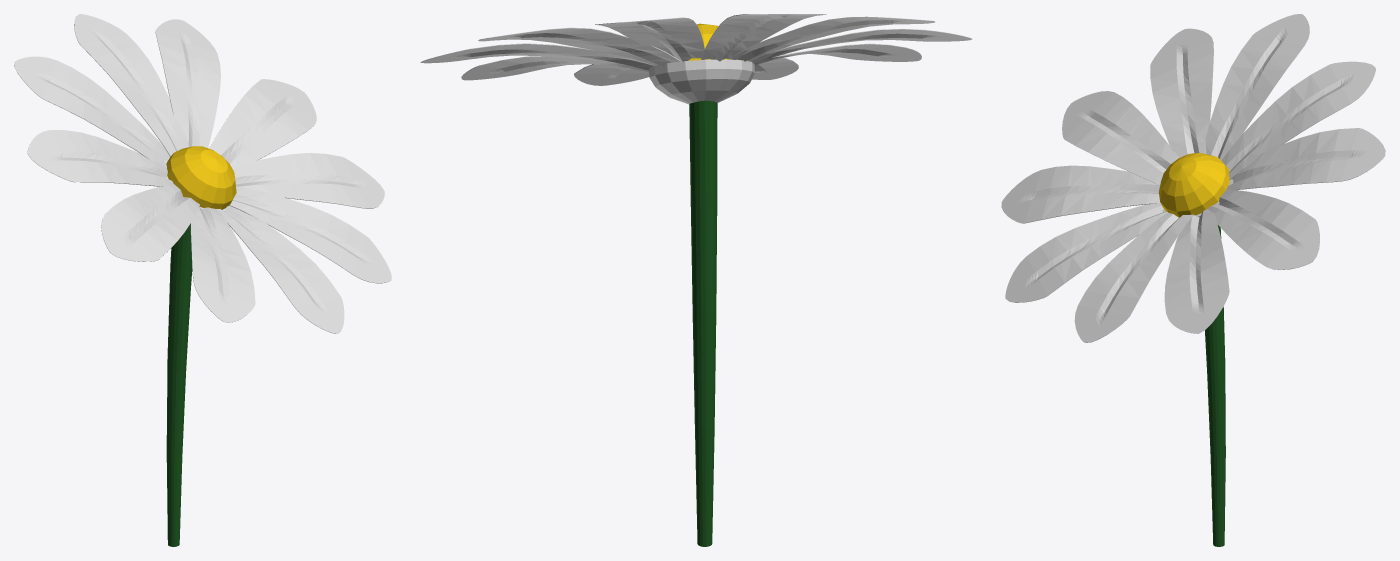
File: Flower.fbx
3 views of the same model, side by side, from view 1: azimuth 30°, elevation 25°; view 2: azimuth 150°, elevation 25°; view 3: azimuth 270°, elevation 25° (orthographic). The views are drawn at different scales.
Visible parts, largest first — view 1: default; view 2: default; view 3: default.
Part boxes in pixels (x1,y1,x2,y2): default: (14,14,391,546); default: (420,14,972,546); default: (1001,14,1385,546).
Size of the model in its own units: 144 by 182 by 134.
